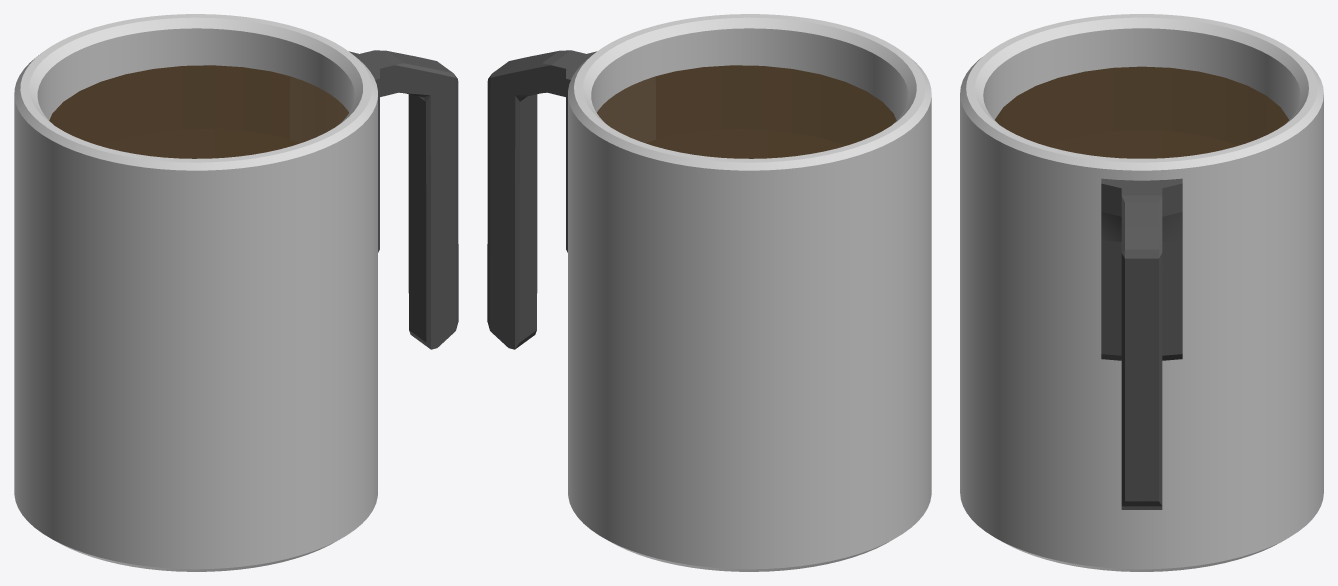
File: mug.glb
The picture shows the model from 3 angles, left to right: view 1: azimuth 30°, elevation 25°; view 2: azimuth 150°, elevation 25°; view 3: azimuth 270°, elevation 25°; orthographic projection.
Visible parts, largest first — view 1: Cup; view 2: Cup; view 3: Cup.
Part boxes in pixels (x1,y1,x2,y2): Cup: [14, 14, 458, 571]; Cup: [487, 14, 931, 571]; Cup: [960, 14, 1323, 571].
Bounding box in the file's own units: 2.61 × 2.5 × 2.
